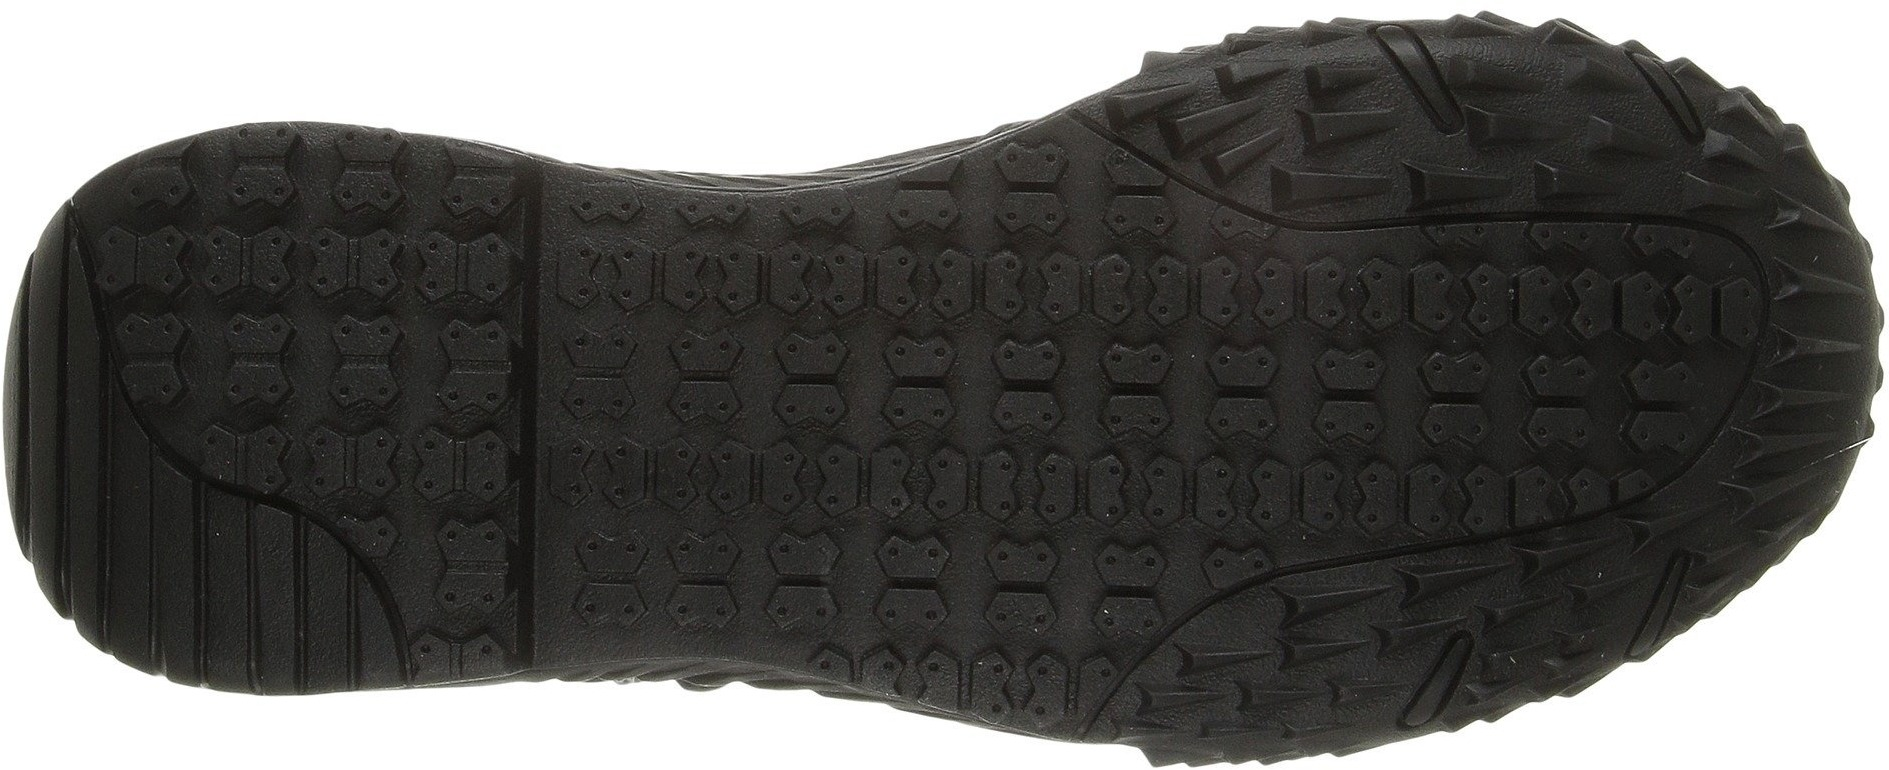bowtie: (545, 231, 982, 646), (971, 243, 1302, 543), (198, 218, 523, 507), (1295, 249, 1616, 541)
circle: (545, 231, 982, 646), (971, 243, 1302, 543), (198, 218, 523, 507), (1295, 249, 1616, 541)
exclude: (514, 159, 551, 677)
line: (545, 231, 982, 646), (971, 243, 1302, 543), (198, 218, 523, 507), (1295, 249, 1616, 541), (154, 512, 316, 677), (43, 474, 170, 595)
quad: (1218, 49, 1394, 211), (1460, 52, 1632, 208)
triangle: (1224, 575, 1393, 737)
